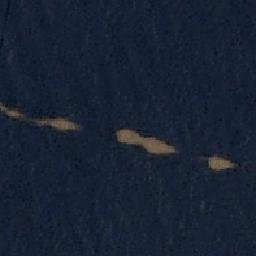debris: (113, 129, 176, 154), (28, 113, 81, 131), (204, 153, 236, 169), (1, 102, 24, 119)
